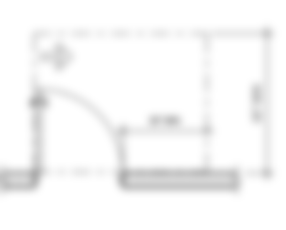door: (35, 87, 125, 176)
